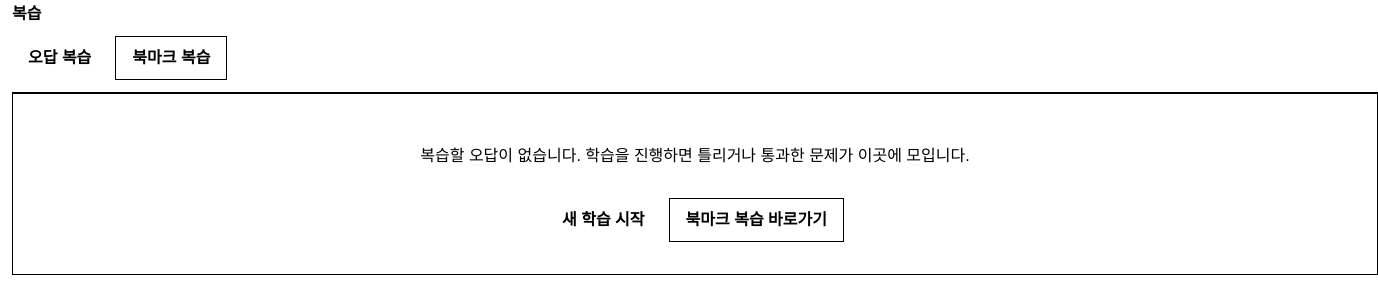
Test: #212 복습 빈 상태 다음 행동 › 빈 상태에서 모드 전환 버튼으로 반대 탭으로 이동한다
expect the text "복습할 오답이 없습니다. 학습을 진행하면 틀리거나 통과한 문제가 이곳에 모입니다." is shown: met, box [420,147,970,164]
Click the button "북마크 복습 바로가기". click: [756, 220]
box: [669,198,844,242]
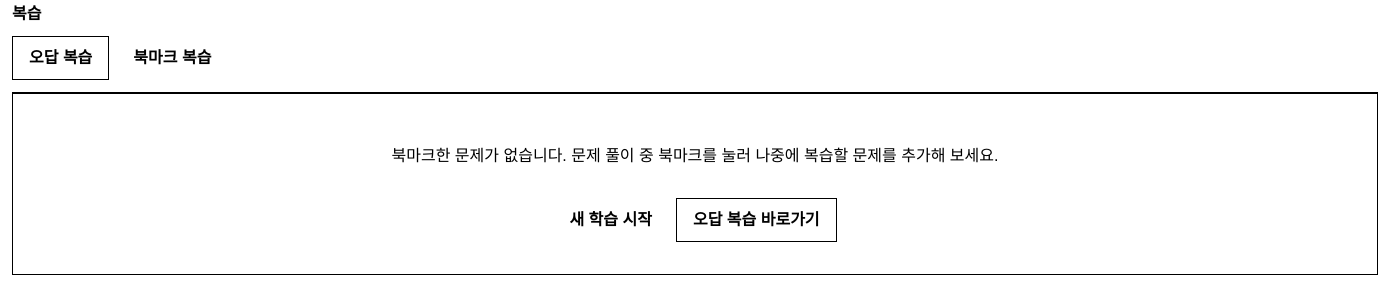
expect the text "북마크한 문제가 없습니다. 문제 풀이 중 북마크를 눌러 나중에 복습할 문제를 추가해 보세요." is shown: met, box [392,147,998,164]
expect the button "오답 복습 바로가기" is shown: met, box [676,198,837,242]
